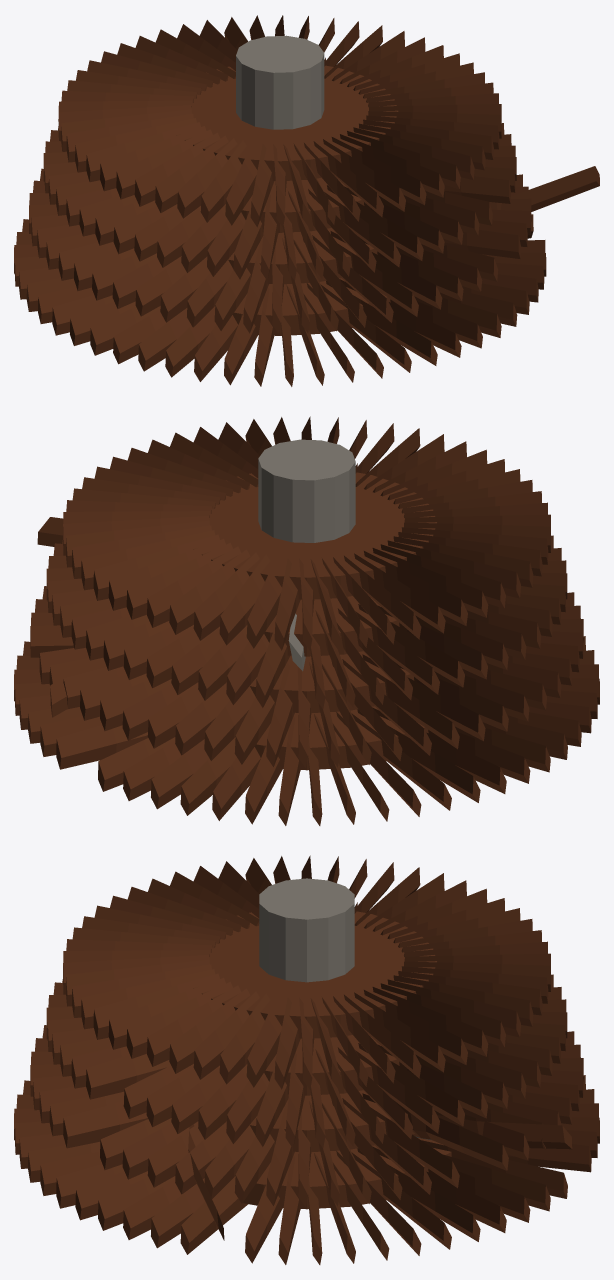
Rendered from turbinerotor_scrap.glb.
The picture shows the model from 3 angles, top to bottom: view 1: azimuth 30°, elevation 25°; view 2: azimuth 150°, elevation 25°; view 3: azimuth 270°, elevation 25°; orthographic projection. The views are drawn at different scales.
Visible parts, largest first — view 1: turbinerotor_scrap; view 2: turbinerotor_scrap; view 3: turbinerotor_scrap.
Part boxes in pixels (x1,y1,x2,y2): turbinerotor_scrap: [14, 15, 599, 386]; turbinerotor_scrap: [14, 416, 599, 825]; turbinerotor_scrap: [14, 855, 599, 1264].
Bounding box in the file's own units: 0.3204 × 0.152 × 0.288.
